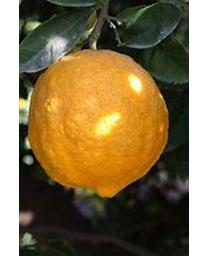lemon: (29, 51, 169, 196)
